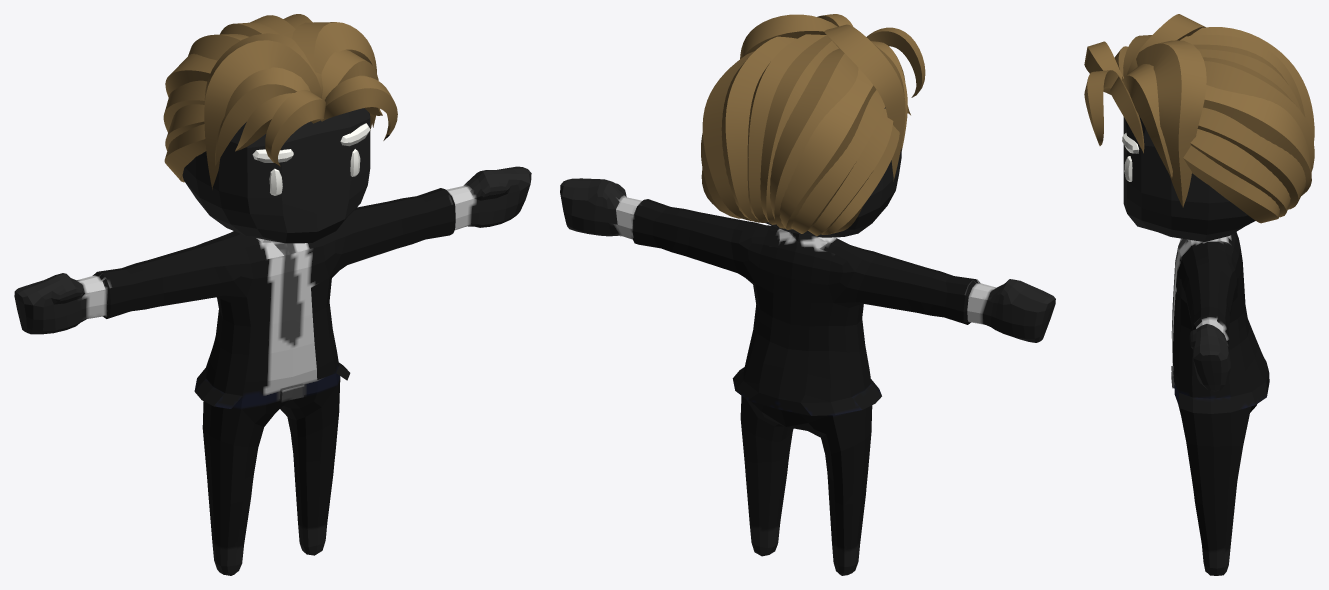
Rendered from Suit_Male.fbx.
3 views of the same model, side by side, from view 1: azimuth 30°, elevation 25°; view 2: azimuth 150°, elevation 25°; view 3: azimuth 270°, elevation 25° (orthographic). The views are drawn at different scales.
Parts seen in each view (by area): view 1: Body; view 2: Body; view 3: Body.
Boxes of the visible parts, x1,y1,x2,y2 form: Body: (14, 14, 531, 575); Body: (560, 14, 1055, 575); Body: (1084, 14, 1314, 575).
Bounding box in the file's own units: 324 × 333 × 132.
1 material, 1 textured.
